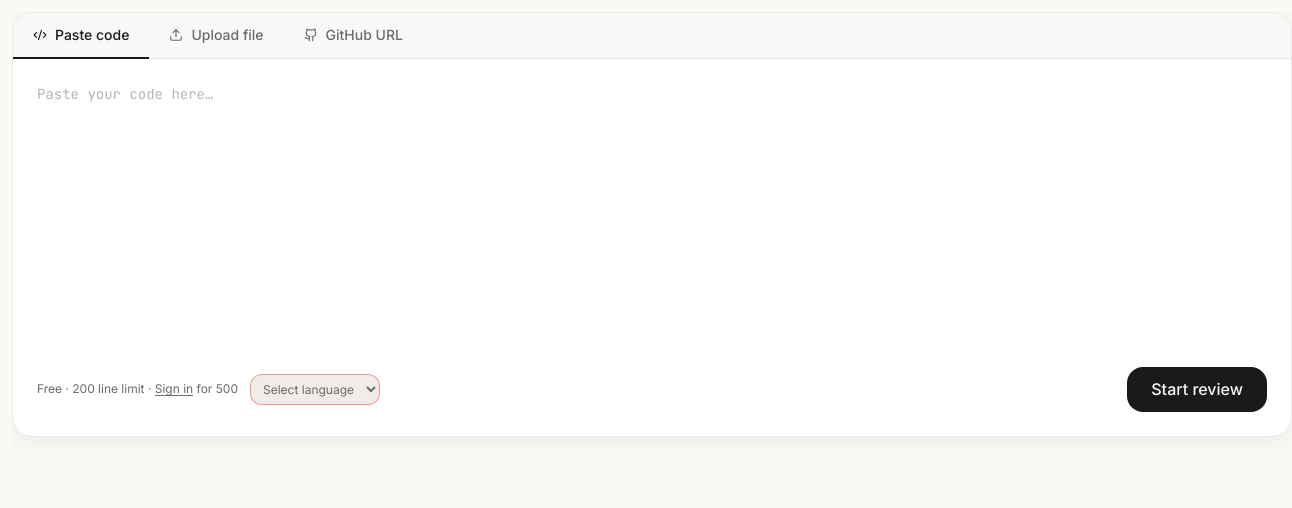
Test: InputPanel — paste tab › shows API error message when submission fails
In the text box with placeholder "Paste your code here…": coordinates (652, 211) [37, 83, 1267, 339], type "x"
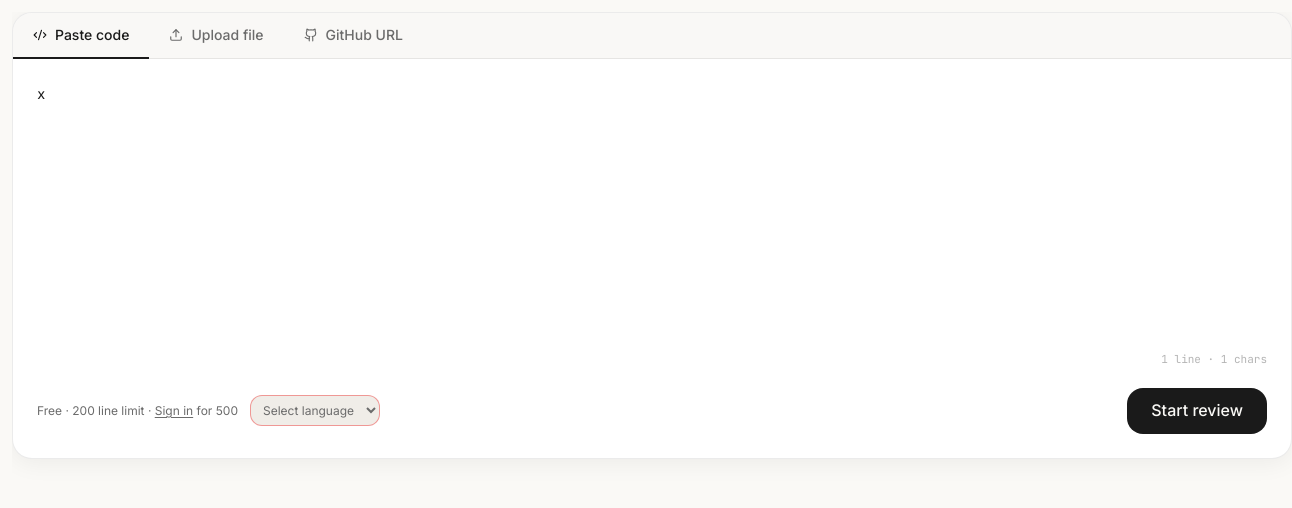
Select "Python" in the dropdown: coordinates (315, 411) [250, 396, 380, 426]
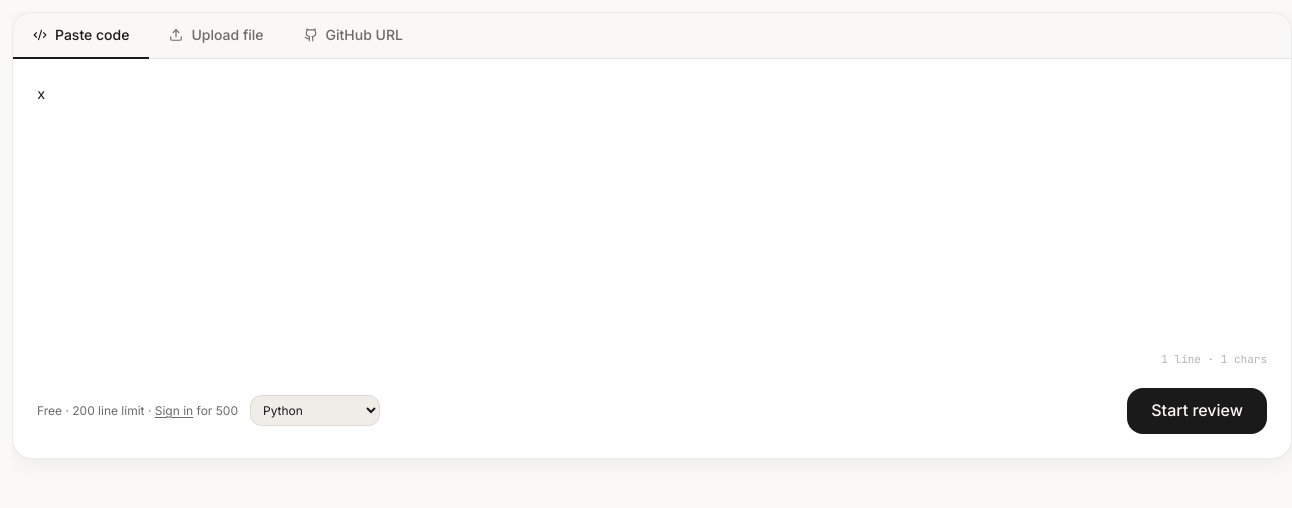
Click the button "Start review": coordinates (1197, 411) [1127, 388, 1267, 434]
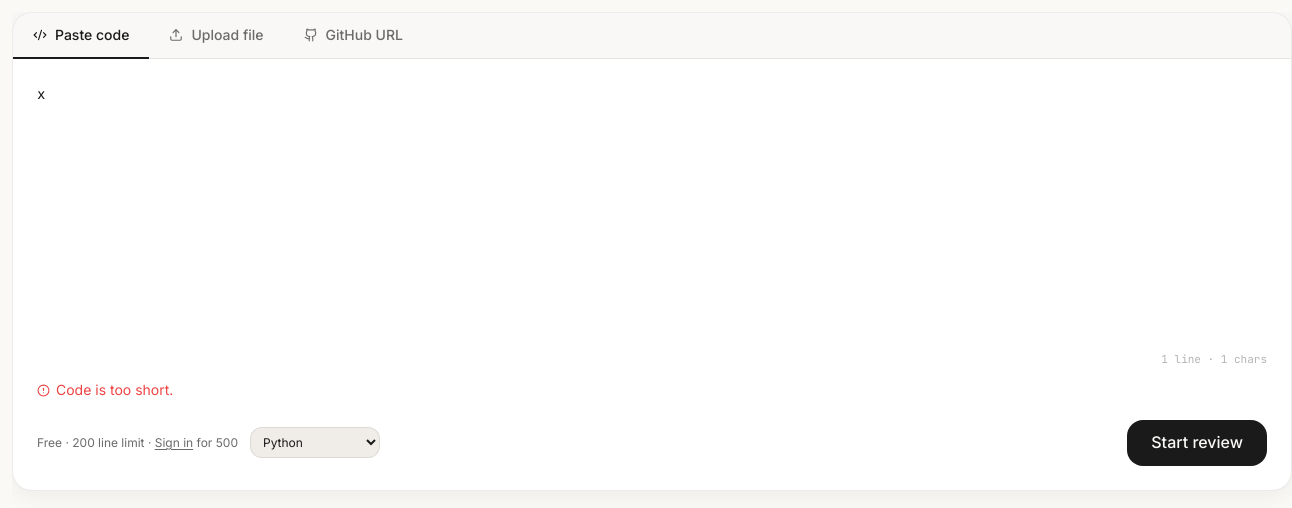
Check: the text "Code is too short." is shown, box [37, 381, 173, 398]
